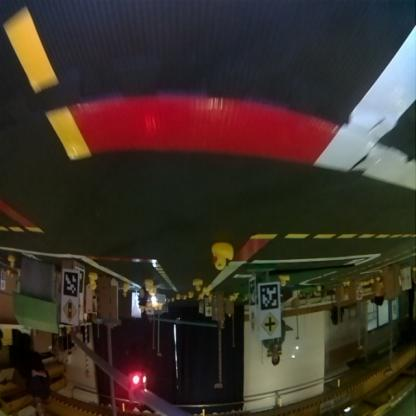Duckie: (211, 244, 233, 271), (280, 275, 288, 287), (193, 280, 202, 290), (90, 274, 97, 282), (122, 284, 128, 292), (204, 288, 210, 296), (188, 293, 193, 299), (175, 296, 179, 300)
Duckiebot: (138, 289, 164, 307)
Intersection sign: (260, 313, 278, 337)
QR code: (260, 284, 278, 310), (61, 272, 78, 297), (249, 282, 254, 308)
Signal sign: (61, 300, 78, 322)
Traffic light: (128, 372, 146, 402)
